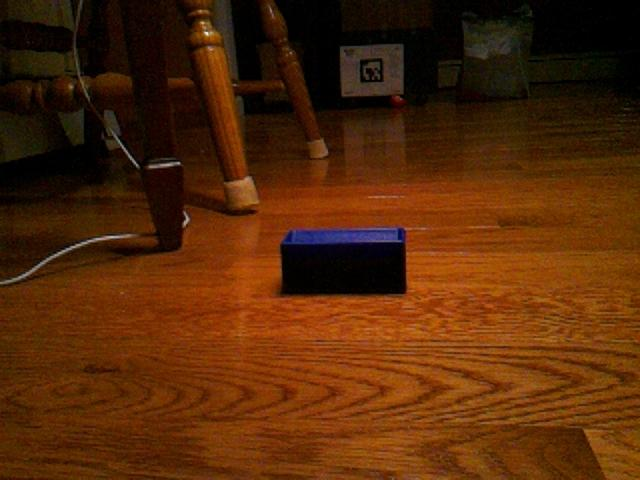blue: (279, 225, 409, 296)
